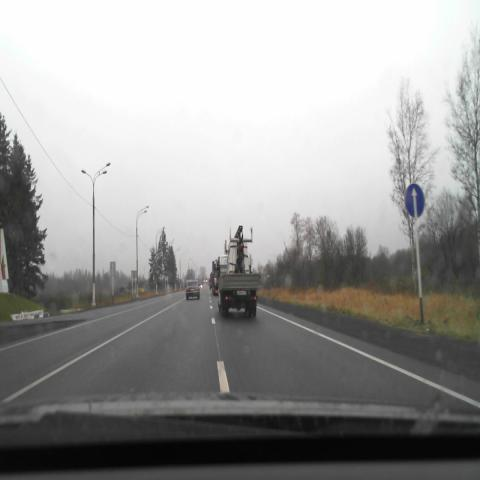4_1_1: (405, 183, 425, 218)
